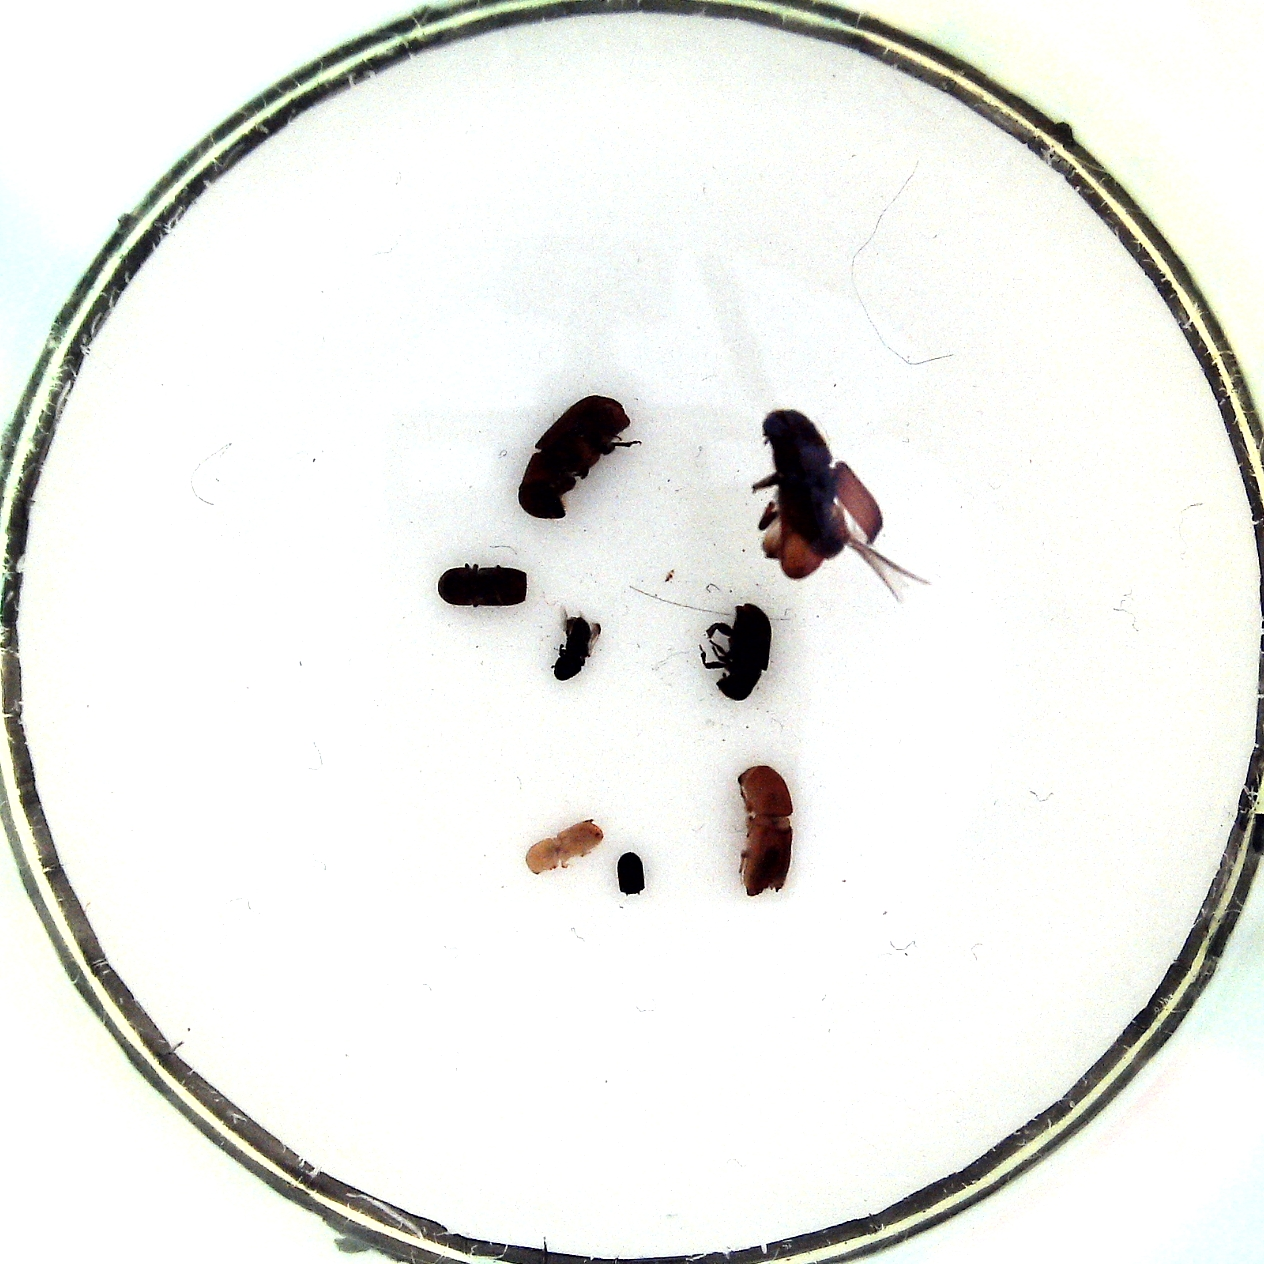Boerner: (727, 762, 802, 901)
Leconte: (741, 399, 933, 611), (512, 394, 645, 521)
Linnaeus: (432, 560, 536, 613)
acuminatus: (522, 814, 607, 876)
armandi: (692, 598, 776, 703)
coleoptera: (548, 607, 604, 681), (610, 848, 654, 898)
